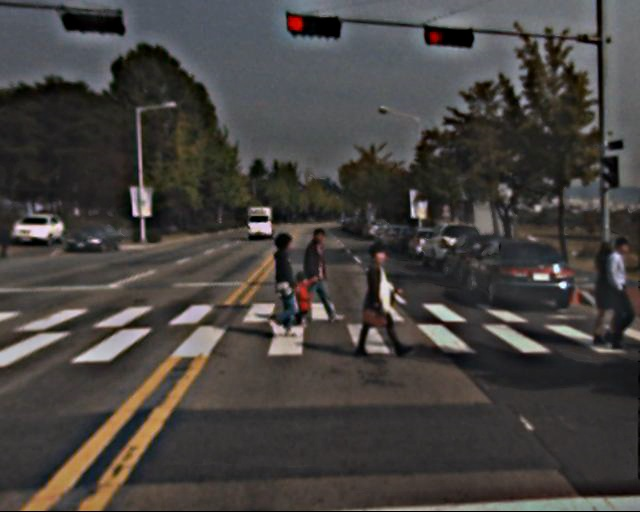person: (355, 242, 401, 355), (597, 237, 640, 350), (585, 239, 629, 347), (260, 230, 303, 335), (299, 227, 338, 323)
